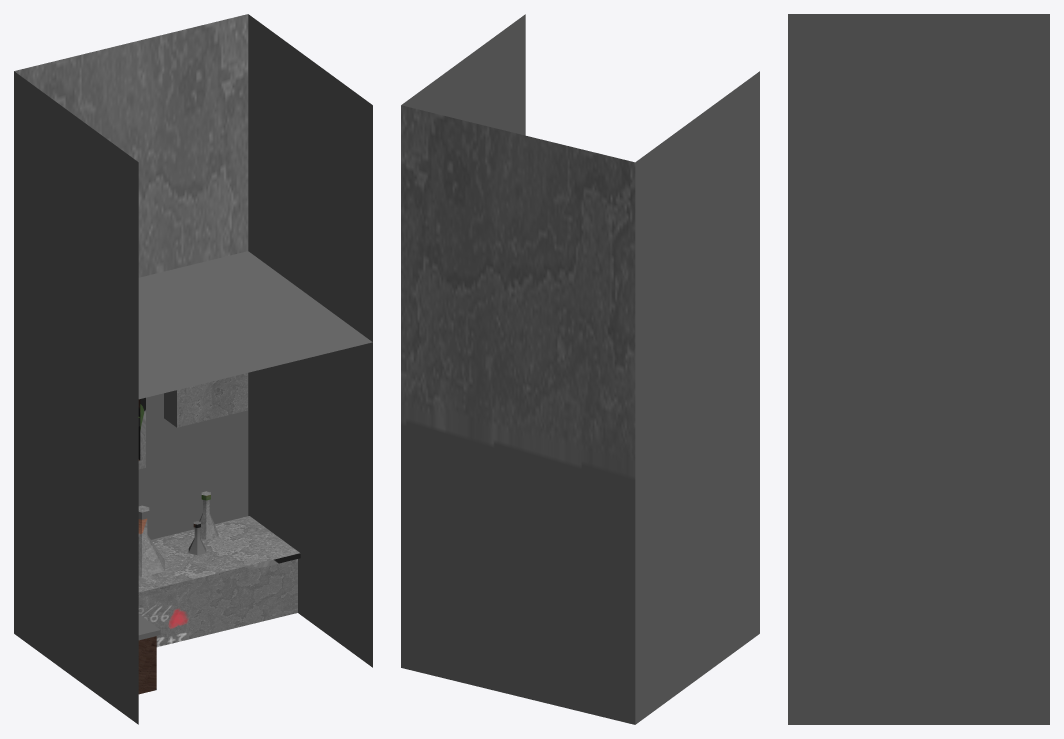
Rendered from Tienda (4).fbx.
3 views of the same model, side by side, from view 1: azimuth 30°, elevation 25°; view 2: azimuth 150°, elevation 25°; view 3: azimuth 270°, elevation 25° (orthographic). The views are drawn at different scales.
Parts seen in each view (by area): view 1: pPlane9, pPlane8, pPlane7, pPlane17, pCube17, pCube33, pCylinder21; view 2: pPlane7, pPlane9, pPlane8; view 3: pPlane8, pPlane9.
Part boxes in pixels (x1,y1,x2,y2): pPlane9: [14, 71, 138, 724]; pPlane8: [248, 14, 372, 667]; pPlane7: [14, 14, 248, 539]; pPlane17: [138, 251, 372, 399]; pCube17: [138, 516, 300, 694]; pCube33: [164, 373, 247, 427]; pCylinder21: [138, 505, 164, 576]; pPlane7: [401, 105, 635, 724]; pPlane9: [635, 71, 759, 724]; pPlane8: [401, 14, 525, 135]; pPlane8: [788, 134, 1049, 724]; pPlane9: [788, 14, 1049, 133].
Size of what is drawn, in the model's own units: 15.87 by 36.44 by 14.63.
